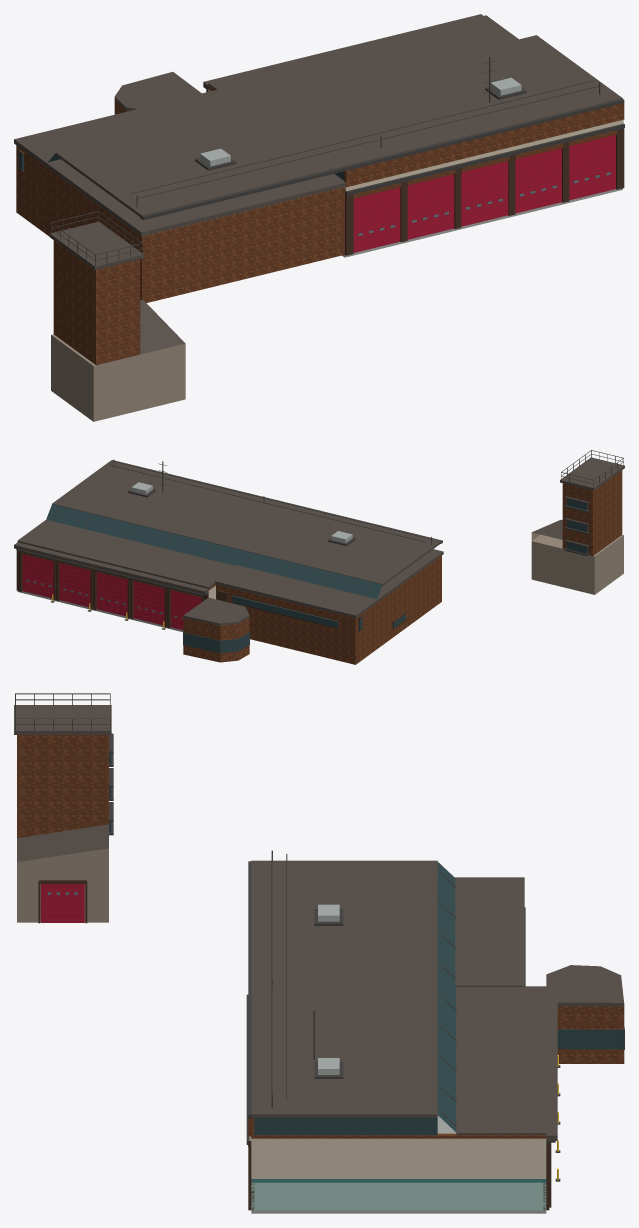
File: station1.glb
3 renders of one model, top to bottom at view 1: azimuth 30°, elevation 25°; view 2: azimuth 150°, elevation 25°; view 3: azimuth 270°, elevation 25°, orthographic. The views are drawn at different scales.
Parts seen in each view (by area): view 1: Static_Dark_warm_roof_membrane, Static_Warm_orange-buff_brick, Static_Deep_fire_red_sectional_doors, Training tower shaft, Training tower base, Static_Graphite_painted_steel, Static_Door_section_ribs_and_perimeter, Static_Dark_brown_brickwork_and_reveals, Training tower shaft cap, Training tower practice volume, Training tower practice sloping roof, Static_Bay_wall_upper_cream_block (+2 smaller); view 2: Static_Dark_warm_roof_membrane, Static_Warm_orange-buff_brick, Static_Smoked_ribbon_glazing, Training tower base, Training tower shaft, Static_Graphite_painted_steel, Static_Dark_brown_brickwork_and_reveals, Training tower shaft cap, Static_Concrete_slab, Static_Galvanized_tracks_and_ductwork, Training tower practice sloping roof; view 3: Static_Dark_warm_roof_membrane, Static_Bay_wall_upper_cream_block, Static_Smoked_ribbon_glazing, Training tower shaft, Static_Bay_wall_lower_mint_block, Static_Warm_orange-buff_brick, Training tower base, Static_Graphite_painted_steel, Training tower shaft cap, Training tower practice sloping roof, Rear shed side sectional door, Static_Concrete_slab (+3 smaller).
Part boxes in pixels (x1,y1,x2,y2): Static_Dark_warm_roof_membrane: (14, 14, 622, 236); Static_Warm_orange-buff_brick: (16, 85, 624, 302); Static_Deep_fire_red_sectional_doors: (353, 134, 615, 252); Training tower shaft: (53, 240, 140, 365); Training tower base: (51, 334, 185, 421); Static_Graphite_painted_steel: (130, 57, 624, 220); Static_Door_section_ribs_and_perimeter: (353, 135, 615, 251); Static_Dark_brown_brickwork_and_reveals: (17, 91, 624, 255); Training tower shaft cap: (49, 222, 144, 269); Training tower practice volume: (140, 344, 185, 409); Training tower practice sloping roof: (140, 299, 185, 354); Static_Bay_wall_upper_cream_block: (208, 89, 623, 191); Static_Dark_warm_roof_membrane: (14, 460, 443, 625); Static_Warm_orange-buff_brick: (21, 552, 441, 664); Static_Smoked_ribbon_glazing: (46, 504, 405, 652); Training tower base: (531, 534, 623, 594); Training tower shaft: (562, 470, 622, 555); Static_Graphite_painted_steel: (16, 459, 442, 653); Static_Dark_brown_brickwork_and_reveals: (16, 549, 406, 631); Training tower shaft cap: (560, 457, 624, 490); Static_Concrete_slab: (17, 591, 183, 631); Static_Galvanized_tracks_and_ductwork: (131, 482, 352, 543); Training tower practice sloping roof: (532, 520, 562, 539); Static_Dark_warm_roof_membrane: (251, 860, 624, 1140); Static_Bay_wall_upper_cream_block: (249, 1136, 546, 1178); Static_Smoked_ribbon_glazing: (254, 862, 624, 1135); Training tower shaft: (17, 735, 108, 837); Static_Bay_wall_lower_mint_block: (251, 1182, 546, 1210); Static_Warm_orange-buff_brick: (248, 1006, 624, 1146); Training tower base: (17, 862, 108, 922); Static_Graphite_painted_steel: (246, 850, 624, 1181); Training tower shaft cap: (14, 705, 111, 734); Training tower practice sloping roof: (17, 824, 108, 861); Rear shed side sectional door: (41, 884, 84, 922); Static_Concrete_slab: (251, 1115, 546, 1213).
Bounding box in the file's own units: 54.91 × 14.02 × 42.13.
Materials: 20 (1 with a texture image).
